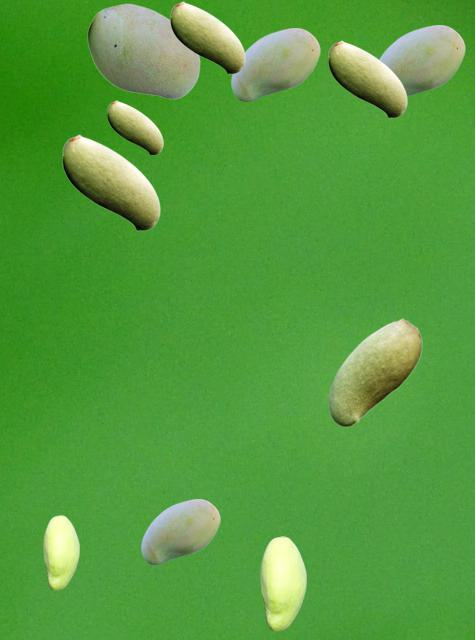green_mango: (87, 3, 199, 98), (328, 318, 421, 425), (62, 134, 159, 230), (231, 28, 319, 100), (379, 25, 464, 96), (328, 40, 406, 117), (170, 1, 244, 73), (141, 499, 219, 563), (260, 536, 305, 630), (107, 100, 162, 154), (43, 515, 78, 589)
